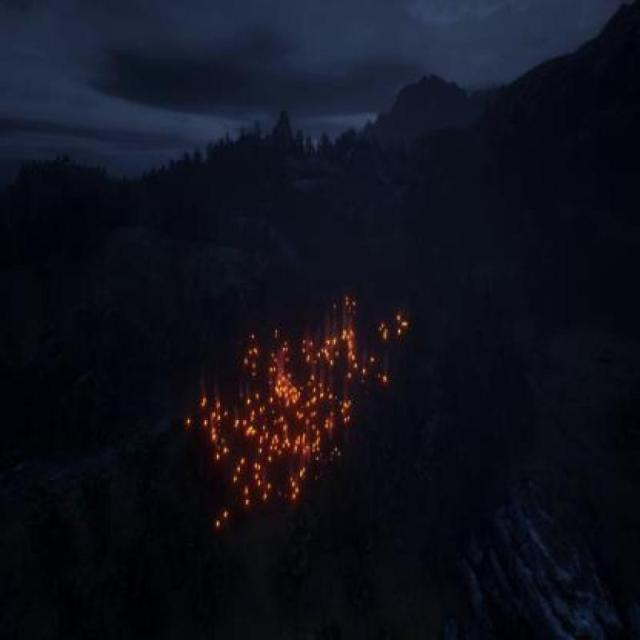Fire: (246, 328, 311, 506), (184, 390, 244, 545), (312, 302, 356, 464), (360, 311, 412, 391)
